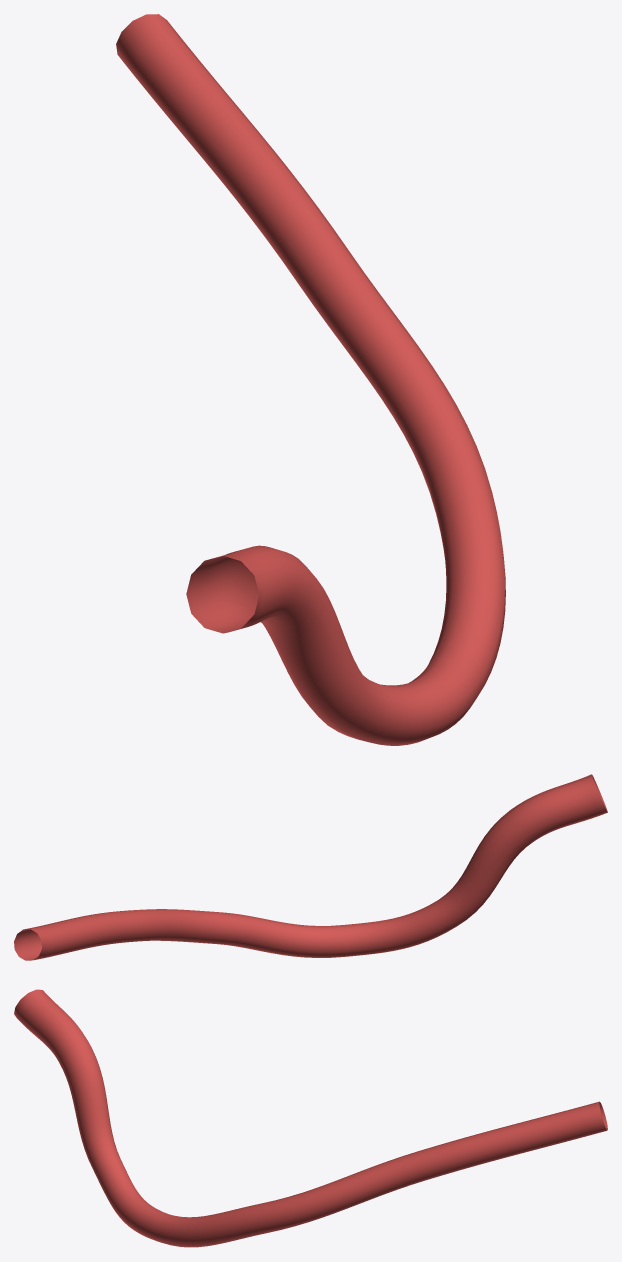
The picture shows the model from 3 angles, top to bottom: view 1: azimuth 30°, elevation 25°; view 2: azimuth 150°, elevation 25°; view 3: azimuth 270°, elevation 25°; orthographic projection. The views are drawn at different scales.
Visible parts, largest first — view 1: 右侧脊髓前动脉; view 2: 右侧脊髓前动脉; view 3: 右侧脊髓前动脉.
Boxes of the visible parts, bbox=[...] form: 右侧脊髓前动脉: bbox=[116, 14, 505, 745]; 右侧脊髓前动脉: bbox=[14, 774, 607, 960]; 右侧脊髓前动脉: bbox=[14, 989, 607, 1247].
Bounding box in the file's own units: 0.0214 × 0.0127 × 0.0404.
